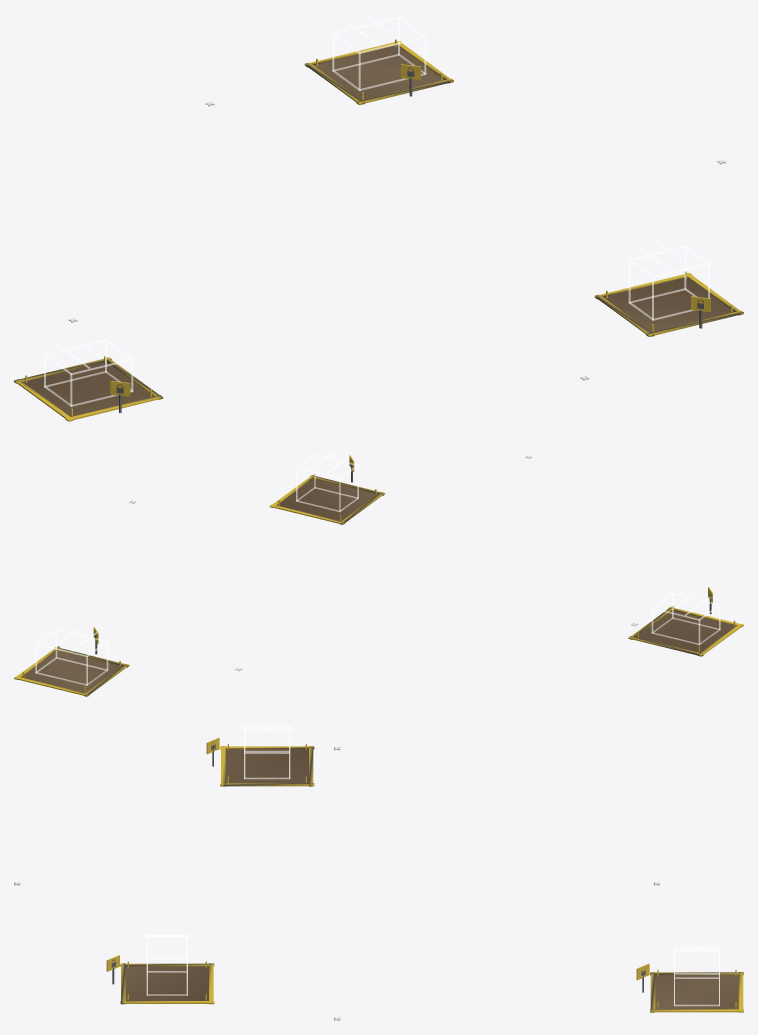
File: Sites_P1.fbx
3 views of the same model, one above another, from view 1: azimuth 30°, elevation 25°; view 2: azimuth 150°, elevation 25°; view 3: azimuth 270°, elevation 25° (orthographic). The views are drawn at different scales.
Visible parts, largest first — view 1: Site.quarry.Pad, Site.plant.Pad, Site.store.Pad, Site.store.Ghost, Site.quarry.Ghost, Site.plant.Ghost; view 2: Site.plant.Pad, Site.quarry.Pad, Site.store.Pad, Site.store.Ghost, Site.quarry.Ghost, Site.plant.Ghost; view 3: Site.store.Pad, Site.plant.Pad, Site.quarry.Pad, Site.quarry.Ghost, Site.store.Ghost, Site.plant.Ghost.
Boxes of the visible parts, bbox=[...] form: Site.quarry.Pad: bbox=[14, 356, 163, 421]; Site.plant.Pad: bbox=[594, 271, 743, 336]; Site.store.Pad: bbox=[304, 39, 453, 104]; Site.store.Ghost: bbox=[332, 14, 426, 90]; Site.quarry.Ghost: bbox=[44, 337, 133, 406]; Site.plant.Ghost: bbox=[628, 240, 709, 320]; Site.plant.Pad: bbox=[269, 474, 385, 524]; Site.quarry.Pad: bbox=[628, 606, 743, 656]; Site.store.Pad: bbox=[14, 646, 129, 696]; Site.store.Ghost: bbox=[35, 626, 108, 685]; Site.quarry.Ghost: bbox=[651, 591, 720, 645]; Site.plant.Ghost: bbox=[296, 450, 358, 511]; Site.store.Pad: bbox=[650, 969, 743, 1012]; Site.plant.Pad: bbox=[120, 961, 214, 1004]; Site.quarry.Pad: bbox=[220, 743, 314, 786]; Site.quarry.Ghost: bbox=[239, 725, 294, 779]; Site.store.Ghost: bbox=[669, 945, 724, 1006]; Site.plant.Ghost: bbox=[143, 934, 191, 995].
Bounding box in the file's own units: 28614 × 2128 × 29214.
